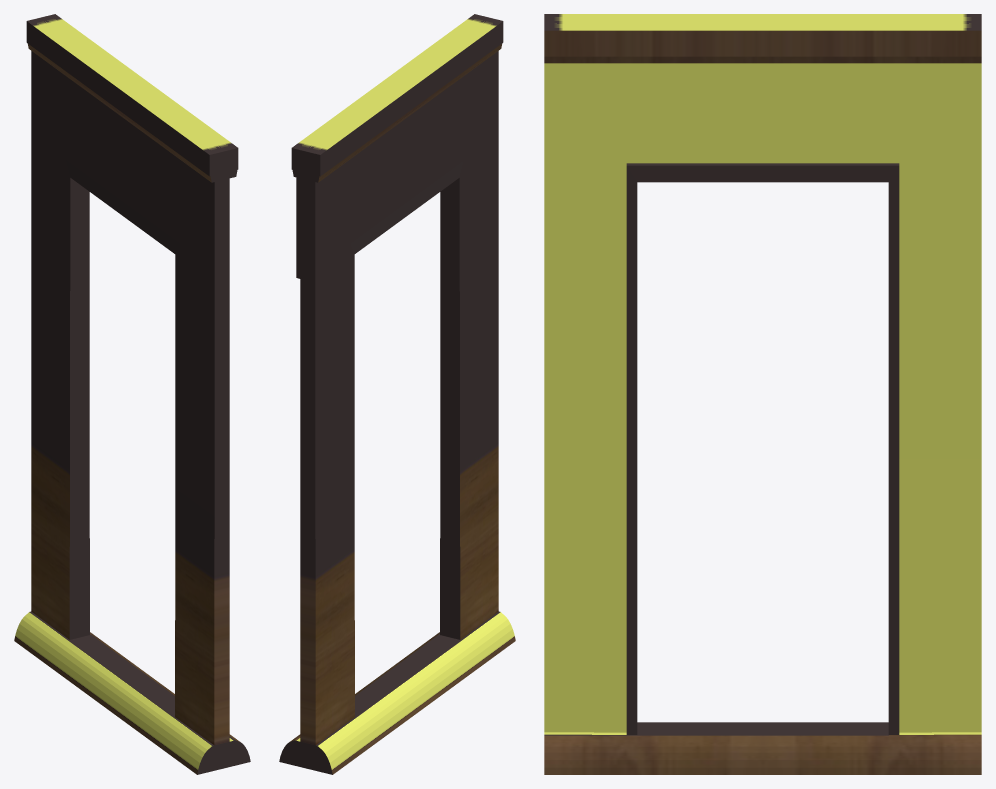
The model's file is doorframePart.fbx.
3 views of the same model, side by side, from view 1: azimuth 30°, elevation 25°; view 2: azimuth 150°, elevation 25°; view 3: azimuth 270°, elevation 25° (orthographic). The views are drawn at different scales.
Visible parts, largest first — view 1: wall.001; view 2: wall.001; view 3: wall.001.
Part boxes in pixels (x1=…): wall.001: x1=14, y1=14, x2=250, y2=774; wall.001: x1=279, y1=14, x2=515, y2=774; wall.001: x1=544, y1=14, x2=981, y2=774.
Bounding box in the file's own units: 109 × 1197 × 644.
